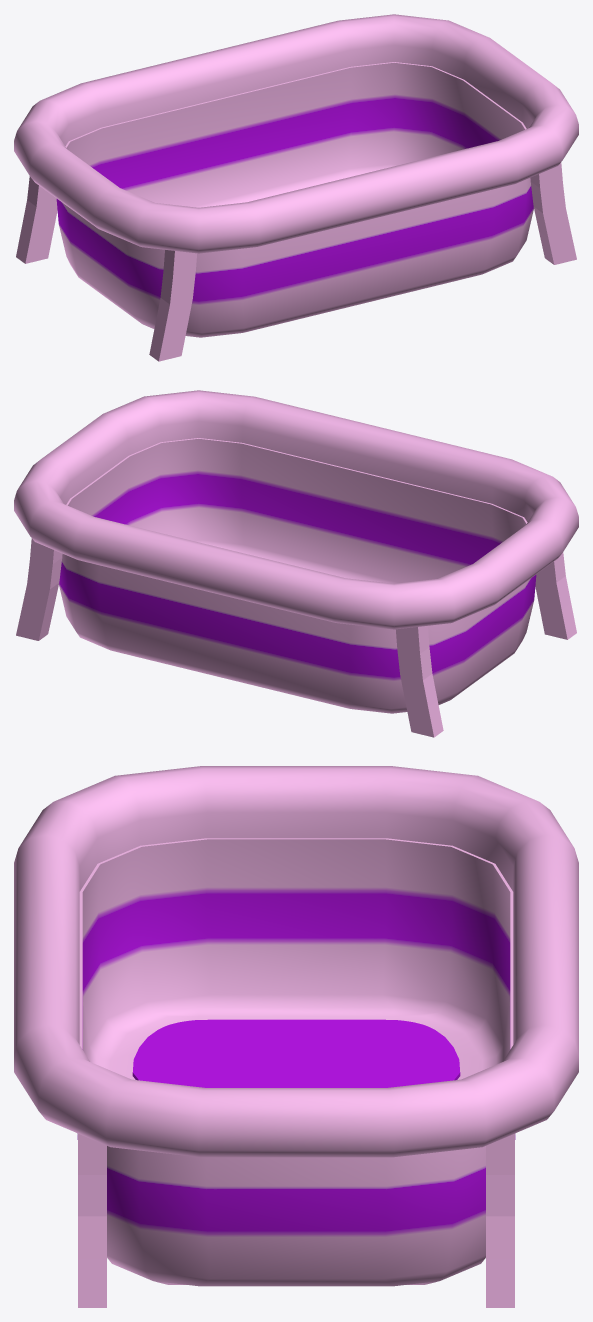
File: team bath.fbx
3 renders of one model, top to bottom at view 1: azimuth 30°, elevation 25°; view 2: azimuth 150°, elevation 25°; view 3: azimuth 270°, elevation 25°, orthographic. The views are drawn at different scales.
Parts seen in each view (by area): view 1: bathtub.001; view 2: bathtub.001; view 3: bathtub.001.
Part boxes in pixels (<box>): bathtub.001: <box>14,14,578,361</box>; bathtub.001: <box>14,390,578,737</box>; bathtub.001: <box>14,766,578,1307</box>.
Size of the model in its own units: 770 by 228 by 526.
1 material, 1 textured.
